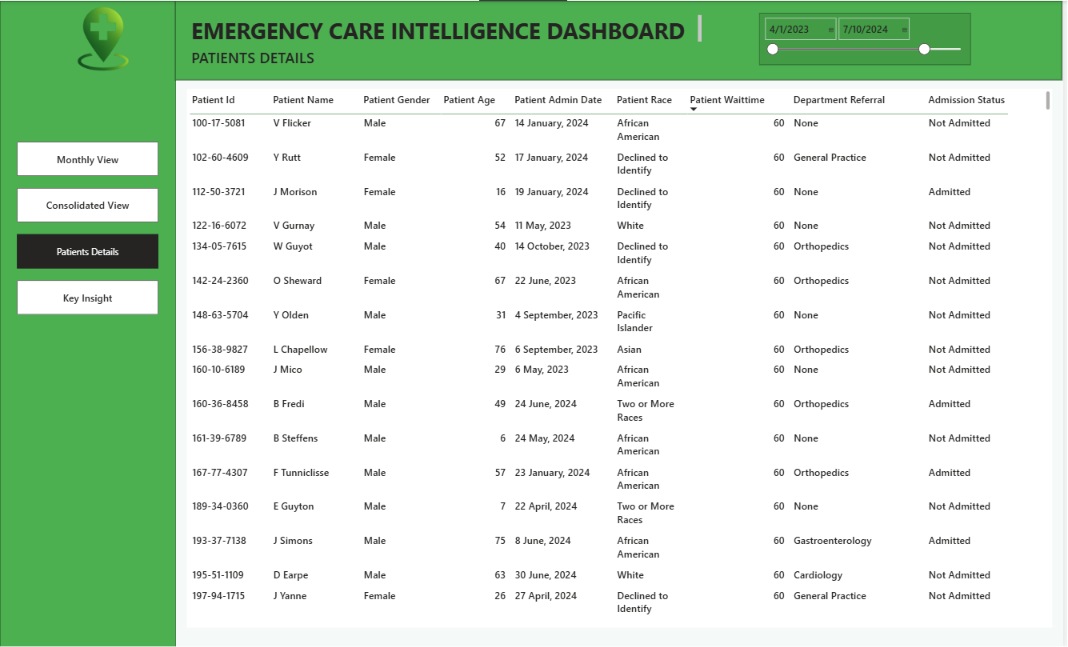

The page's visual inventory and layout, read from the dashboard file:
{"tool":"powerbi","page":{"name":"Patients Details","canvas":[2300,1400],"ordinal":2},"visuals":[{"type":"shape","box":[0,0,380.5,1400],"z":0},{"type":"shape","box":[379.3,0,1920.6,171.8],"z":1000},{"type":"textbox","box":[408.3,25,1114.6,70.8],"z":2000},{"type":"textbox","box":[408.3,95.8,447.9,66.7],"z":3000},{"type":"slicer","fields":{"Values":["Date Table.Date"]},"box":[1643.8,25,458.3,112.5],"z":4000},{"type":"image","box":[66.7,0,312.5,170.8],"z":5000},{"type":"tableEx","fields":{"Values":["Hospital ER_Data.Patient Id","Hospital ER_Data.Full Name","Hospital ER_Data.Patient Gender","Sum(Hospital ER_Data.Patient Age)","Hospital ER_Data.Patient Admin Date","Hospital ER_Data.Patient Race","Sum(Hospital ER_Data.Patient Waittime)","Hospital ER_Data.Department Referral","Hospital ER_Data.Admission Status"]},"box":[404.2,189.6,1872.9,1166.7],"z":6000},{"type":"pageNavigator","box":[37.5,304.2,306.2,377.1],"z":7000}]}

Visuals, with their boxes in screenshot pixels (x1, y1, x2, y2), scaled from the page's 2300x1400 canvas onto the 1068x647 screenshot:
shape: 0 0 177 646
shape: 176 0 1067 79
textbox: 190 12 707 44
textbox: 190 44 398 75
slicer - Date Table.Date: 763 12 976 64
image: 31 0 176 79
tableEx - Hospital ER_Data.Patient Id x Hospital ER_Data.Full Name: 188 88 1057 627
pageNavigator: 17 141 160 315
